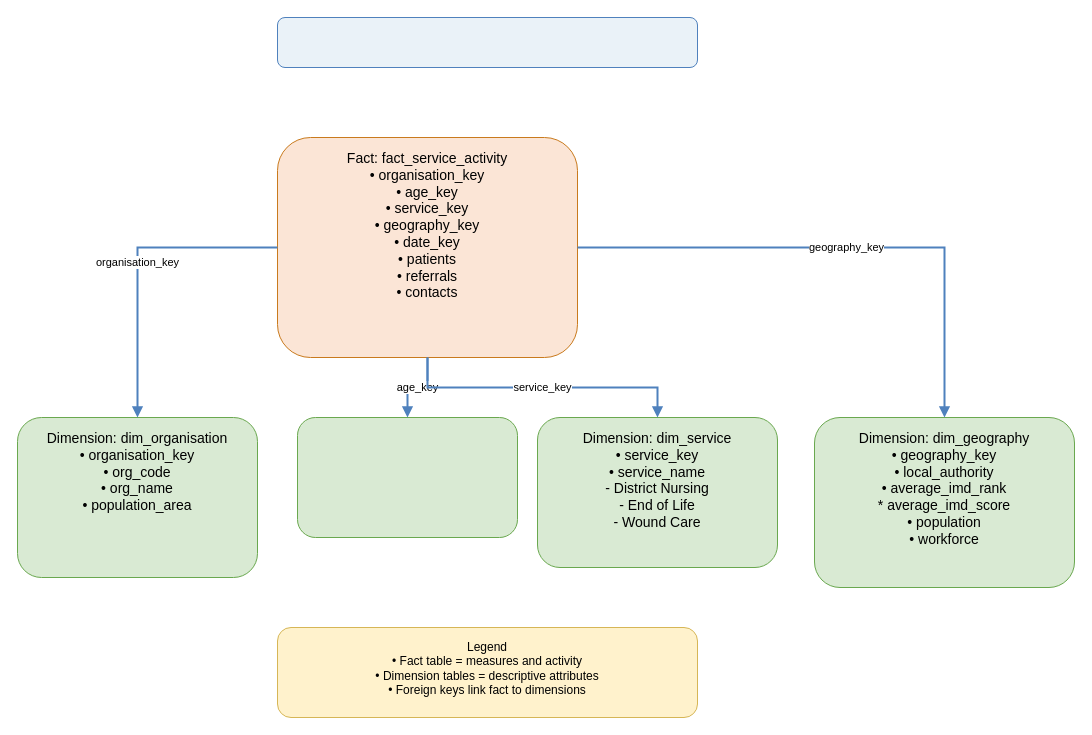
This 1092x735 diagram has some shape labels left out. Each missing label, with the centre of its shape:
"Community Nursing Dimensional Model" belongs at [487,42].
"Dimension: dim_age • age_key • age_group" belongs at [407,477].
